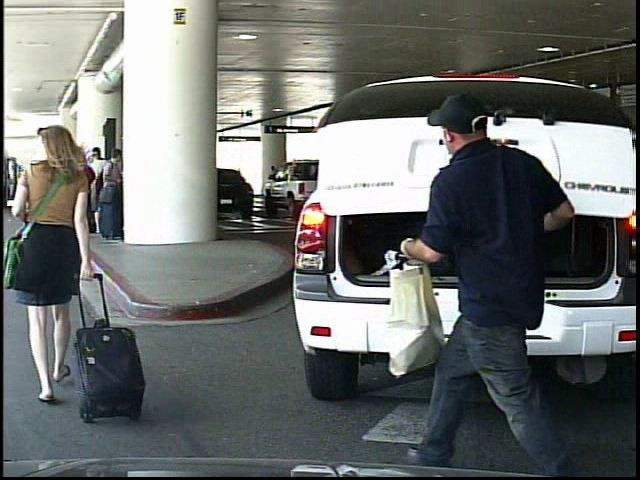person: (396, 79, 579, 473), (4, 120, 114, 425), (265, 163, 284, 206)
